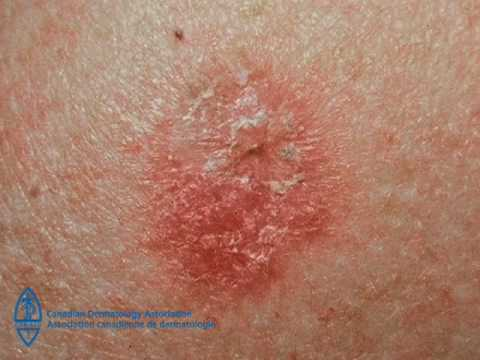melanoma: (90, 42, 404, 303)
